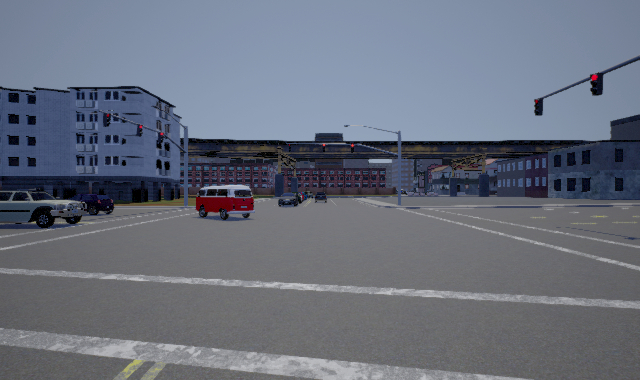traffic_light: (590, 72, 603, 96), (534, 98, 543, 116), (103, 113, 111, 127), (137, 124, 143, 137), (158, 132, 164, 143), (351, 144, 354, 153), (322, 144, 325, 152), (289, 144, 291, 152)
vehicle: (1, 188, 87, 228), (195, 185, 255, 220), (72, 194, 115, 215), (277, 193, 299, 207), (314, 190, 328, 202)
